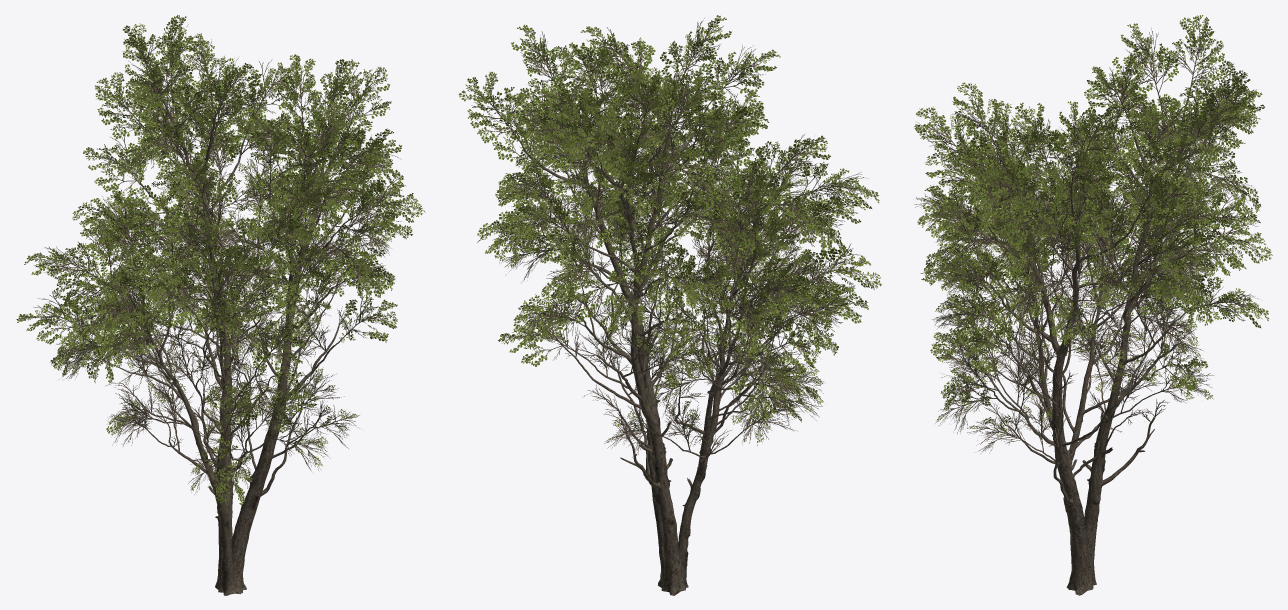
The model's file is SM_BlackAlder_Field_03_PP_LOD2.gltf.
3 views of the same model, side by side, from view 1: azimuth 30°, elevation 25°; view 2: azimuth 150°, elevation 25°; view 3: azimuth 270°, elevation 25° (orthographic). The views are drawn at different scales.
Visible parts, largest first — view 1: SM_BlackAlder_Field_03_PP; view 2: SM_BlackAlder_Field_03_PP; view 3: SM_BlackAlder_Field_03_PP.
Part boxes in pixels (box(x1,y1,x2,y2)): SM_BlackAlder_Field_03_PP: box(16, 15, 425, 595); SM_BlackAlder_Field_03_PP: box(458, 15, 881, 595); SM_BlackAlder_Field_03_PP: box(914, 15, 1272, 595).
Bounding box in the file's own units: 11.47 × 16.65 × 9.83.
Materials: 3 (3 with a texture image).
